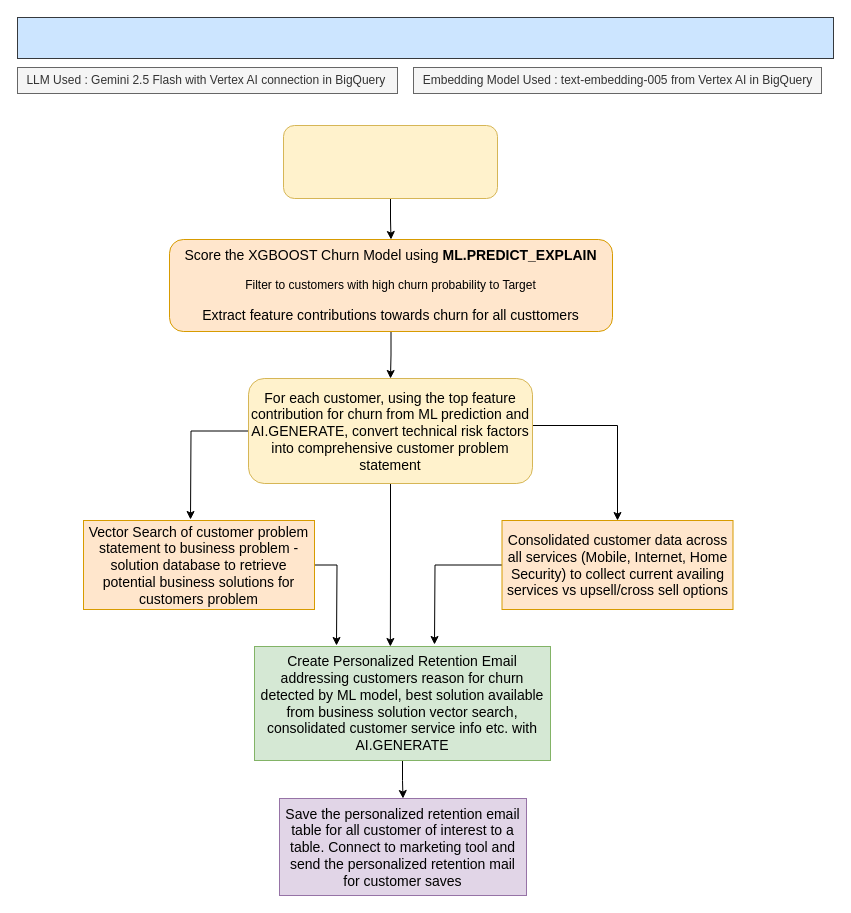
The diagram is 851 pixels wide and 913 high, and some of its shapes have lost their labels. Here are the shapes that lost their labels. From the top down, the centre of each, then its label:
At pixel 425 37: "Action 3 : ML-Powered Personalized Retention Emails".
At pixel 390 161: "Mobile Customer View ( Filter to subset of interest )".
